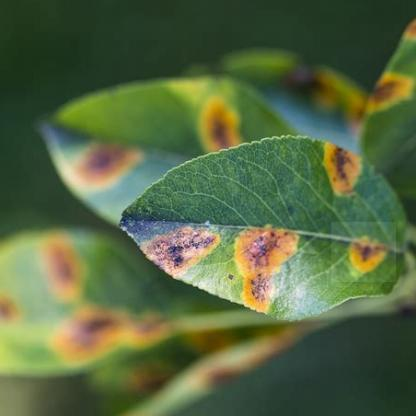black-spot: (222, 216, 306, 294), (331, 222, 396, 282)
